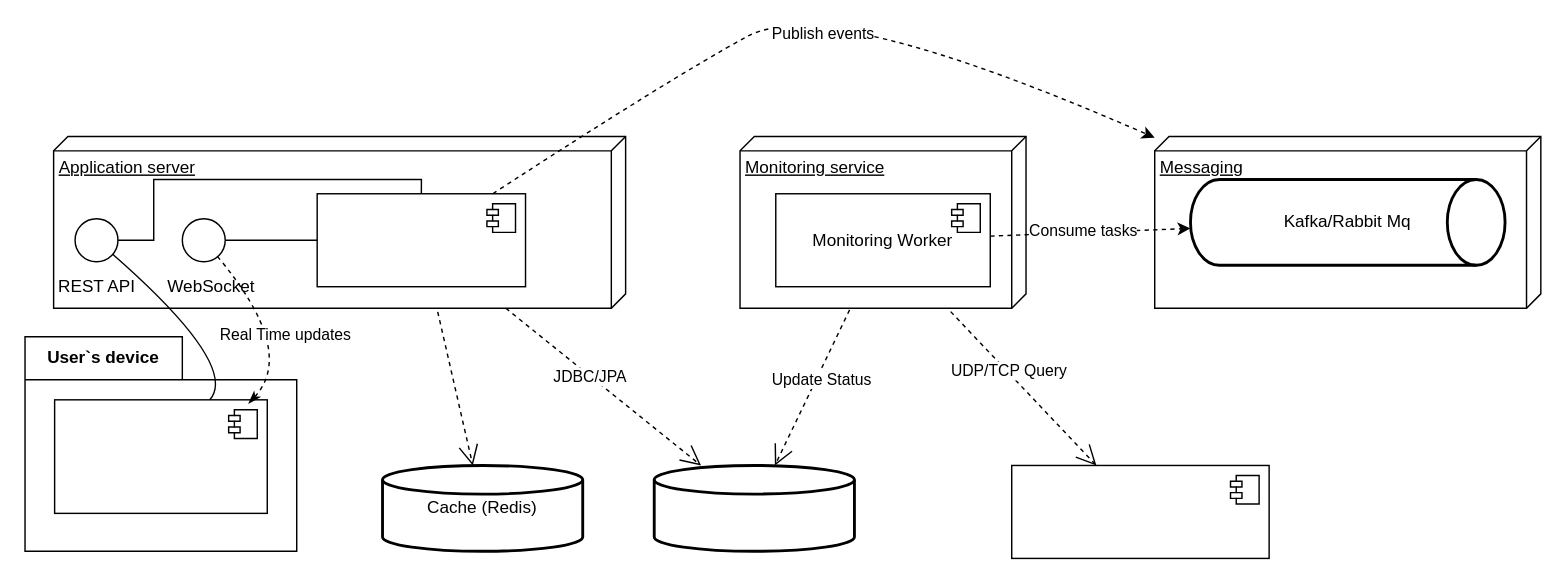
Some shapes in this 1566 by 583 pixel diagram are drawn without their labels. Each missing label, with the centre of its shape:
"Backend API (Spring Boot)" goes at [421,239].
"Database (PostgreSQL)" goes at [753,507].
"External Game Servers" goes at [1139,511].
"Web Frontend" goes at [160,455].
